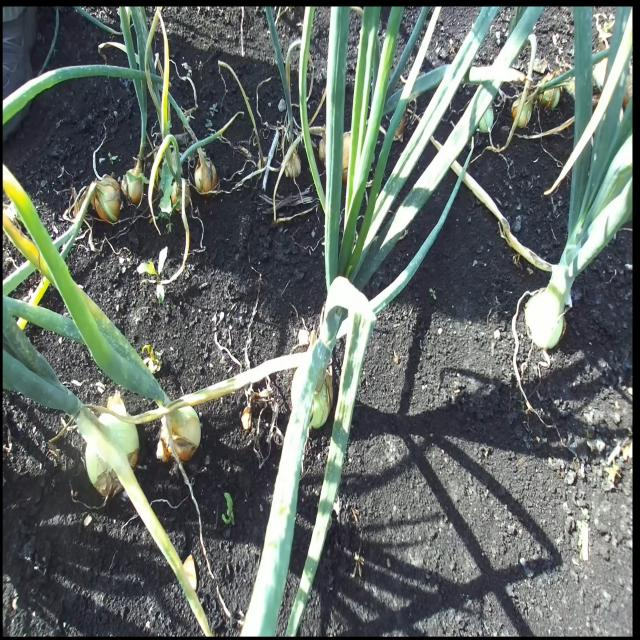onion: (76, 406, 140, 500), (157, 402, 201, 464), (308, 367, 333, 431), (92, 174, 123, 224), (120, 158, 148, 206), (194, 147, 217, 195), (511, 95, 532, 128), (478, 105, 493, 134)
